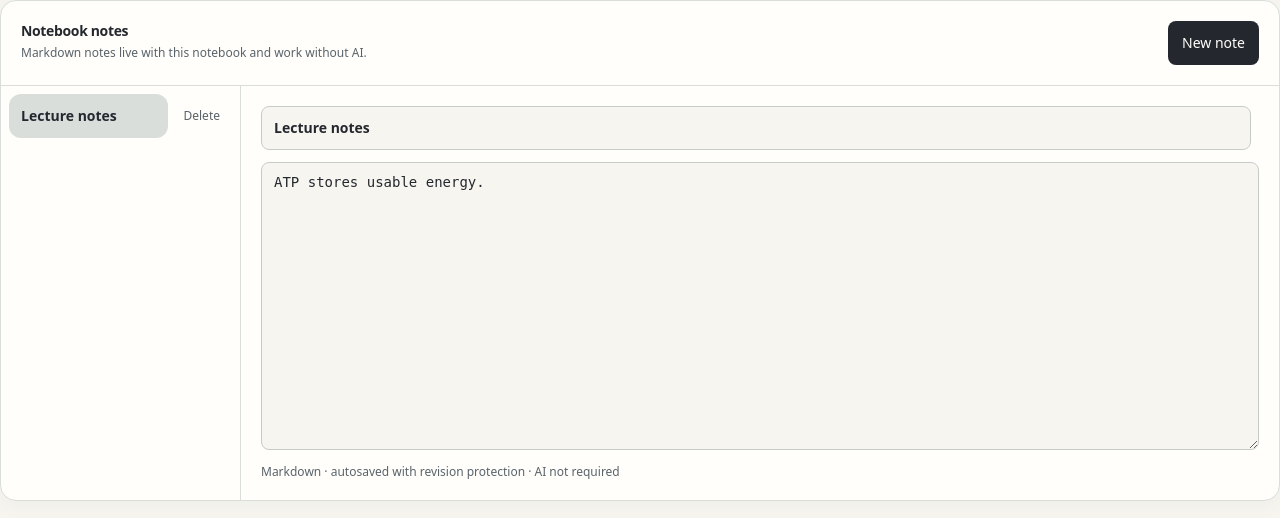
it: NotesPanel › autosaves Markdown with optimistic revision protection
Replace the text in the text box named "Note body" with "ATP powers cells.": [760, 306] box [261,162,1259,450]
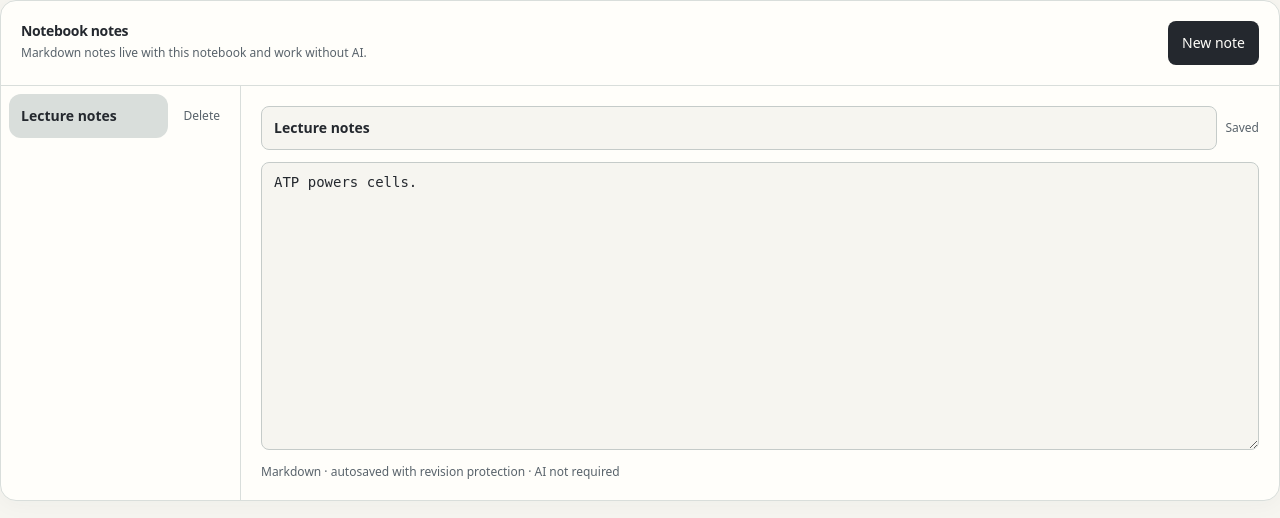
expect the text "Saved" is shown: met, box [1225,120,1259,136]
